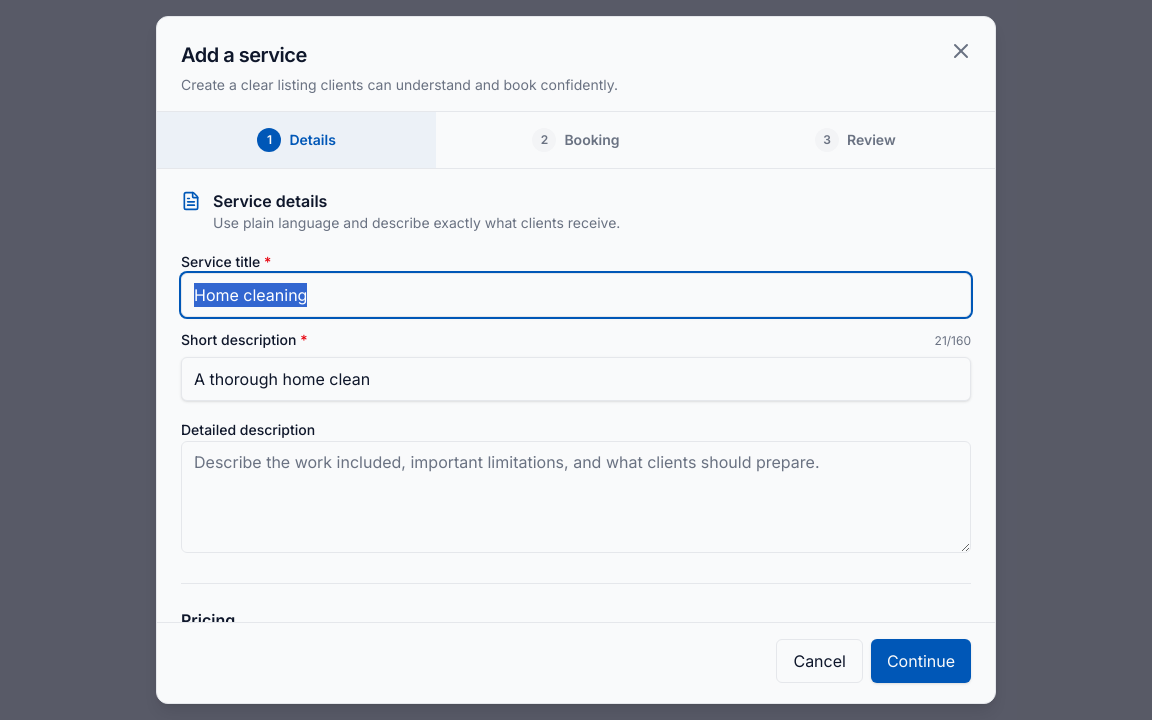
CreateServiceModal › keeps overlapping weekly times from being published
Click the button "Continue": point(921, 661) [871,639,971,683]
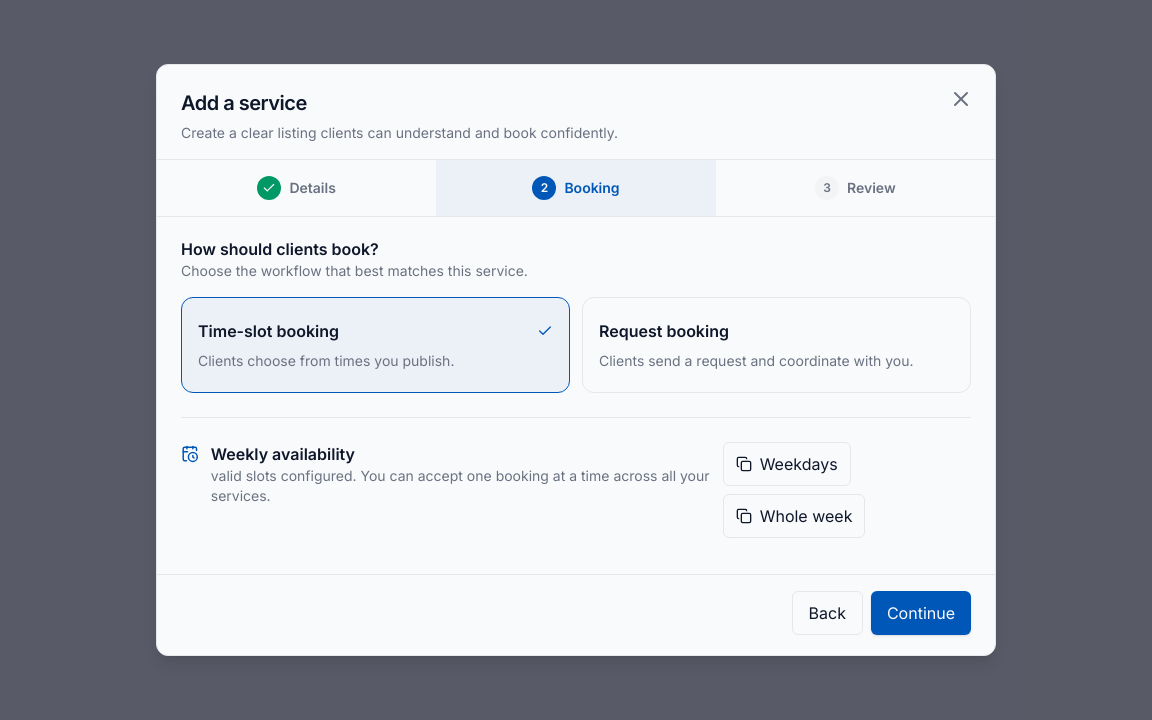
Click the button "Continue": point(921, 613) [871,591,971,635]
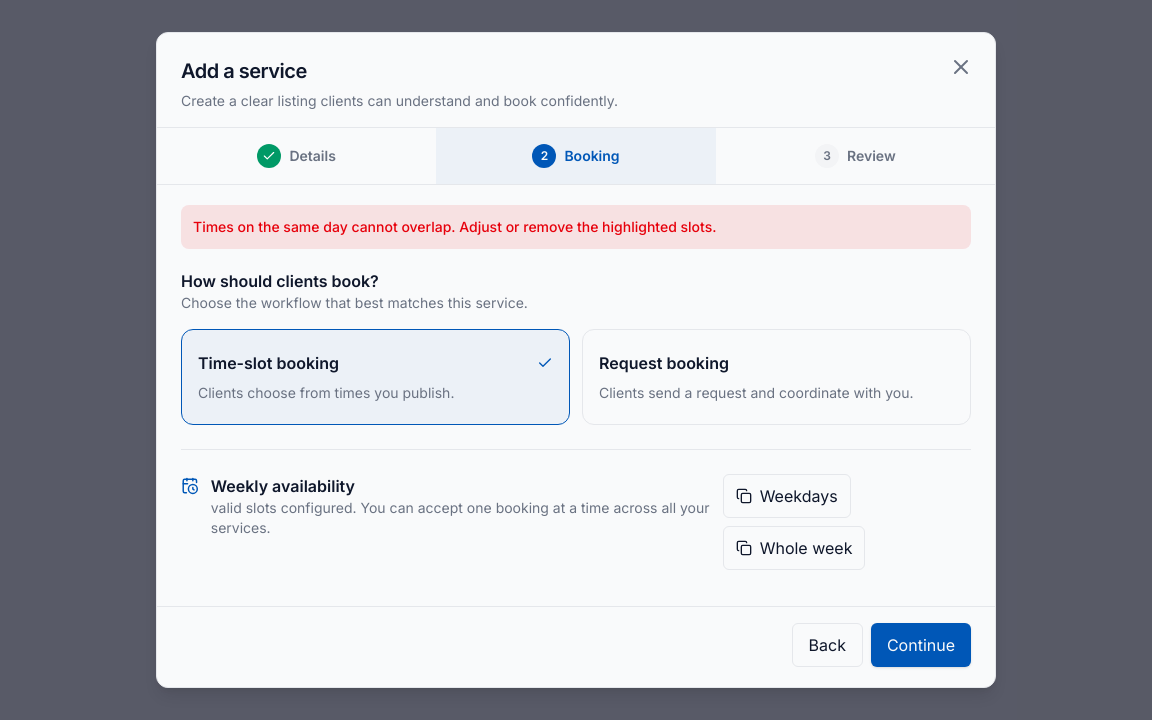
Result: the message shows "cannot overlap" at [193,218,716,235]
